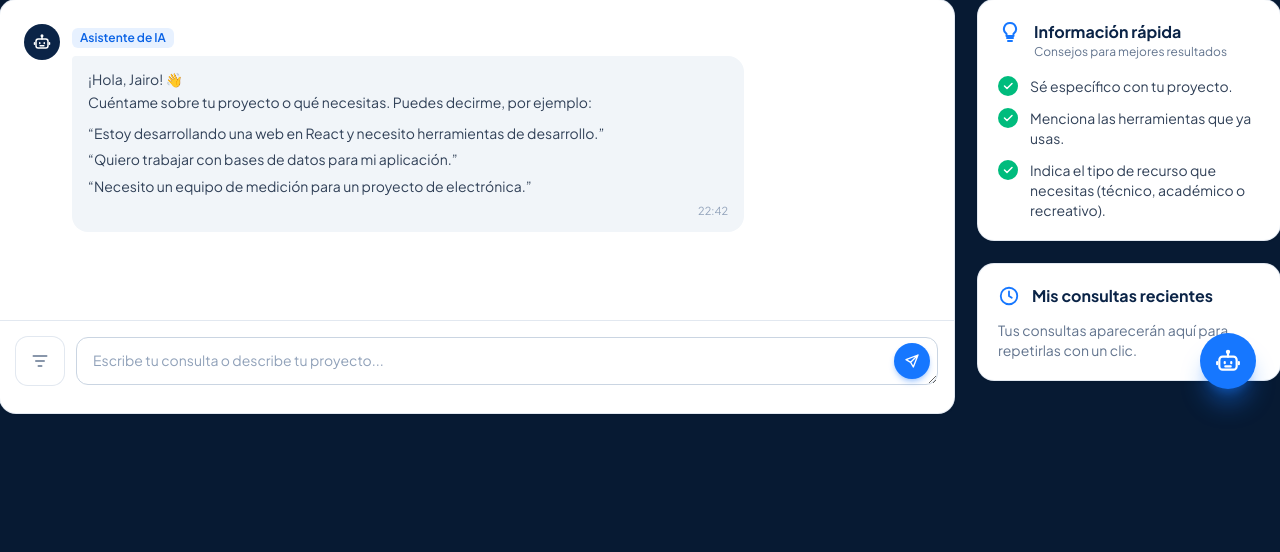
Test: Recomendaciones inteligentes (HU-009) › muestra el mensaje del backend si falla
Type "Necesito sensores" into the text box labelled "describe tu proyecto".
click(507, 361); type("Necesito sensores")  # box [76,337,938,385]
Then press Enter
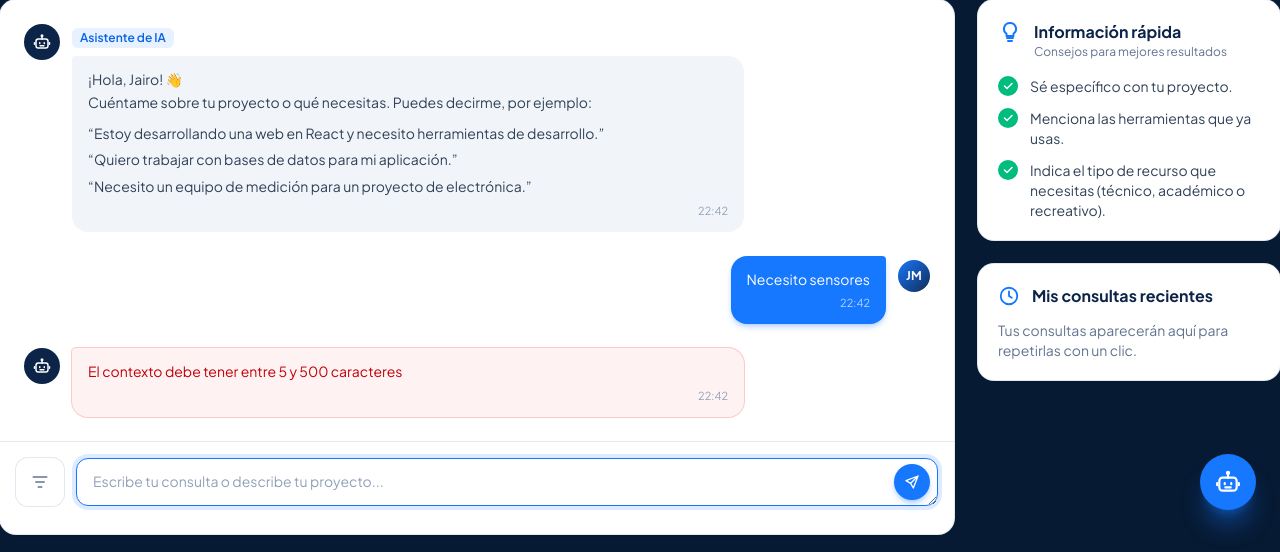
Expected: the text "El contexto debe tener entre 5 y 500 caracteres" is shown, [88,362,402,380]
